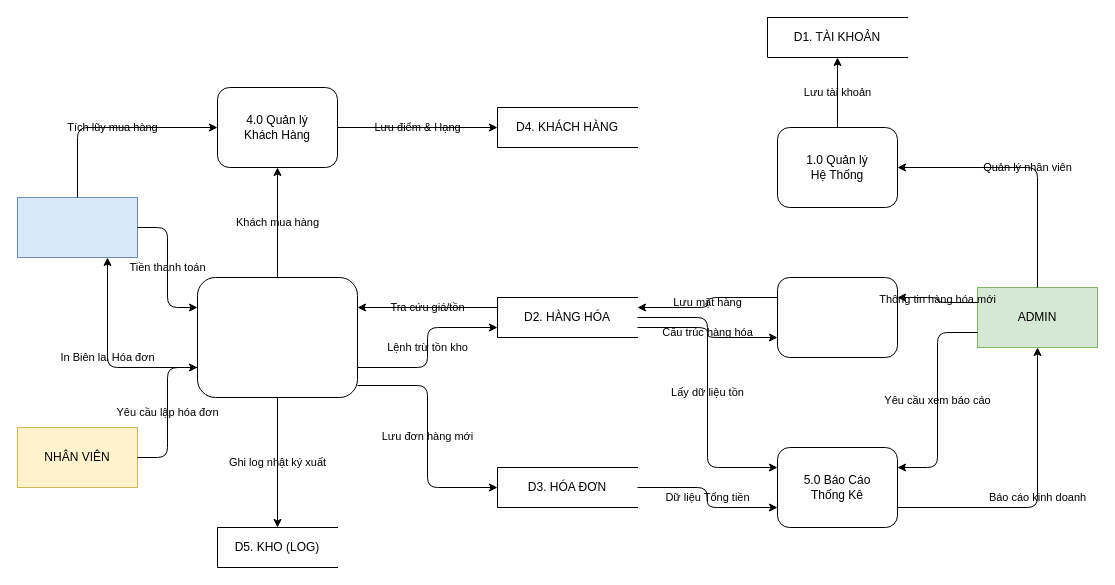
Image size: 1115x585. Some labels were removed from this diagram. Here are the shapes that lost their labels. From the top down, the box of each, then its label:
(16, 196, 138, 258): KHÁCH HÀNG
(196, 276, 358, 398): 3.0 Quản lý Bán Hàng (POS)
(776, 276, 898, 358): 2.0 Quản lý Danh mục
